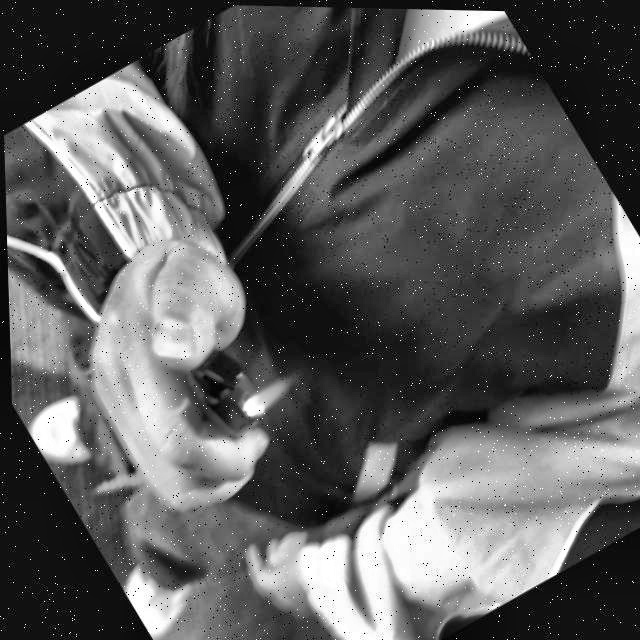Fire: (233, 371, 300, 425)
